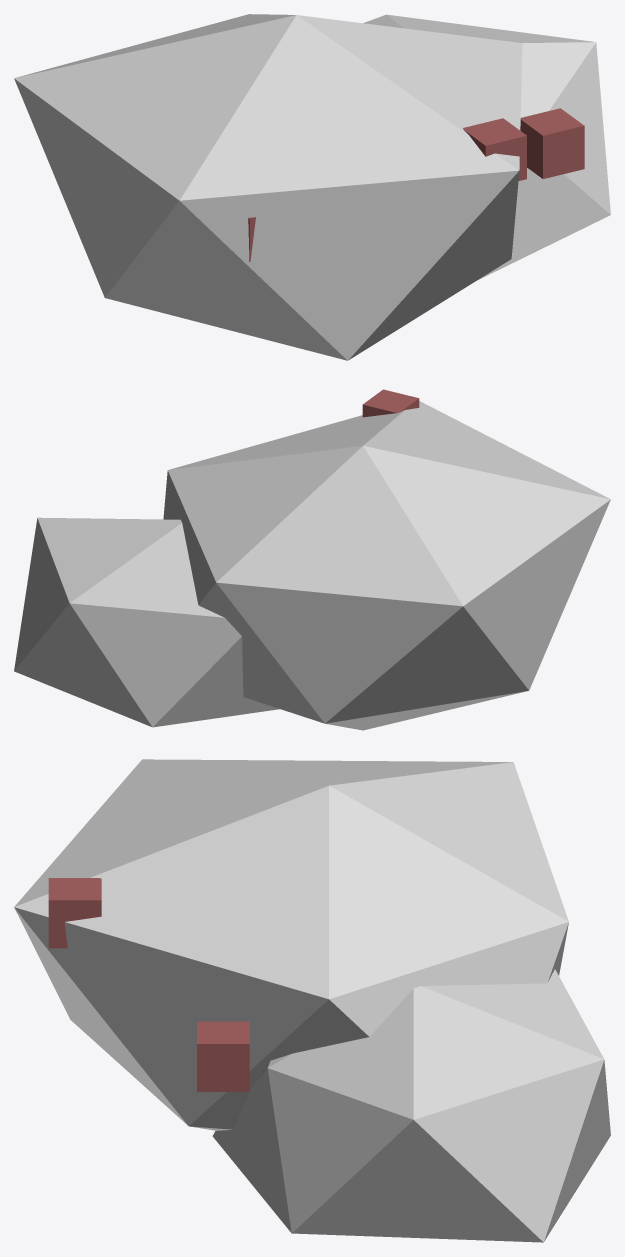
Rendered from bush.glb.
3 views of the same model, one above another, from view 1: azimuth 30°, elevation 25°; view 2: azimuth 150°, elevation 25°; view 3: azimuth 270°, elevation 25° (orthographic). The views are drawn at different scales.
Parts seen in each view (by area): view 1: bush, bush2, detail_berry2, detail_berry0; view 2: bush, bush2, detail_berry0; view 3: bush, bush2, detail_berry2, detail_berry0.
Boxes of the visible parts, x1=… form: bush: x1=14, y1=14, x2=522, y2=360; bush2: x1=363, y1=14, x2=610, y2=280; detail_berry2: x1=520, y1=108, x2=584, y2=178; detail_berry0: x1=463, y1=118, x2=526, y2=180; bush: x1=163, y1=401, x2=610, y2=730; bush2: x1=14, y1=517, x2=279, y2=727; detail_berry0: x1=362, y1=389, x2=419, y2=417; bush: x1=14, y1=759, x2=568, y2=1130; bush2: x1=212, y1=969, x2=610, y2=1242; detail_berry2: x1=197, y1=1021, x2=249, y2=1091; detail_berry0: x1=48, y1=878, x2=101, y2=948.
Size of the model in its own units: 0.6507 by 0.3791 by 0.5643.
